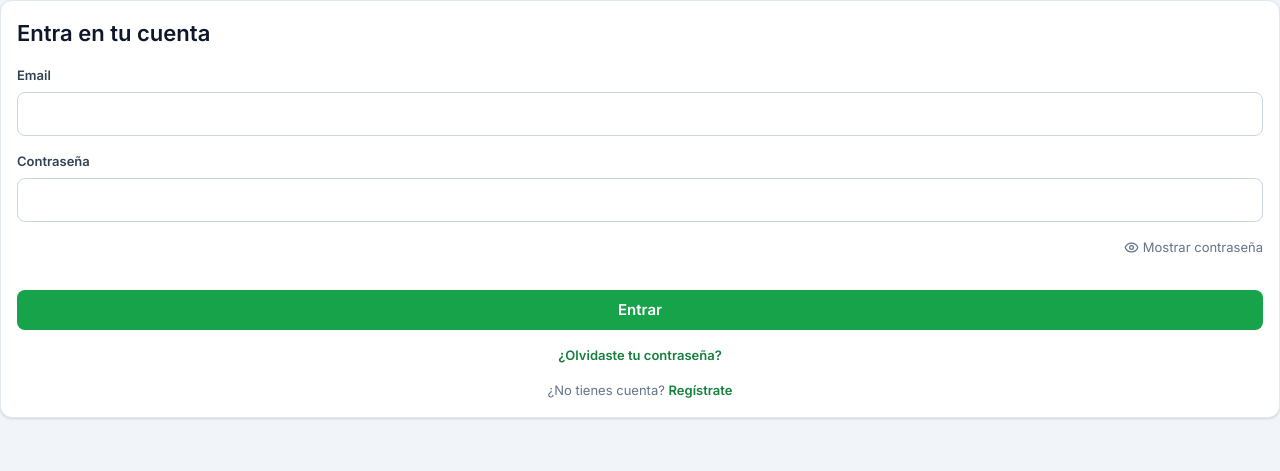
Test: LoginPage — el camino que ya funcionaba (JOS-184: no romperlo) › contraseña incorrecta sigue diciendo «Email o contraseña incorrectos»
Type "ana@mail.com" into the field labelled "Email". click: (640, 114)
box: [17,92,1263,136]
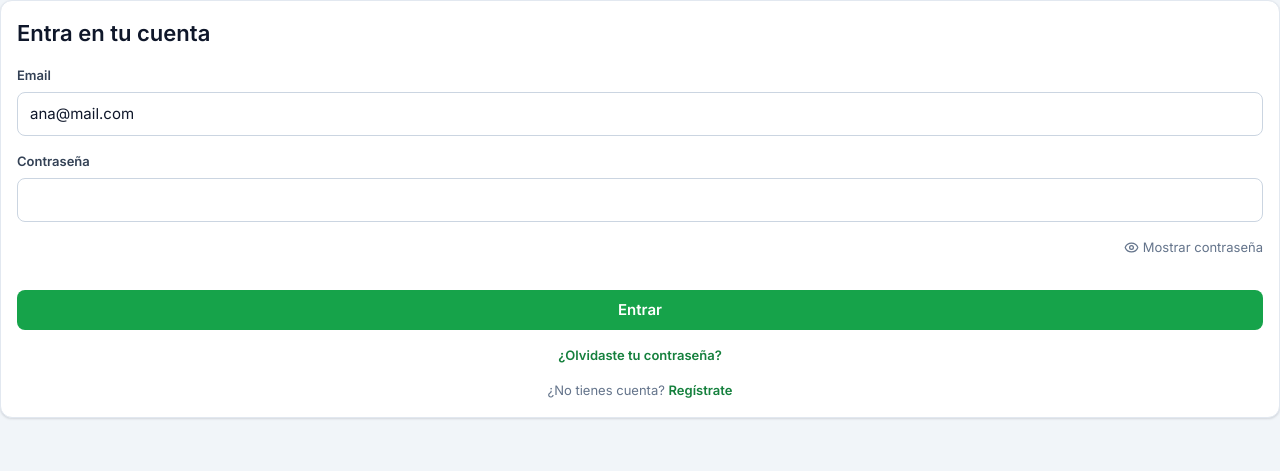
Type "Secreta123" into the password field labelled "Contraseña". click: (640, 200)
box: [17,178,1263,222]
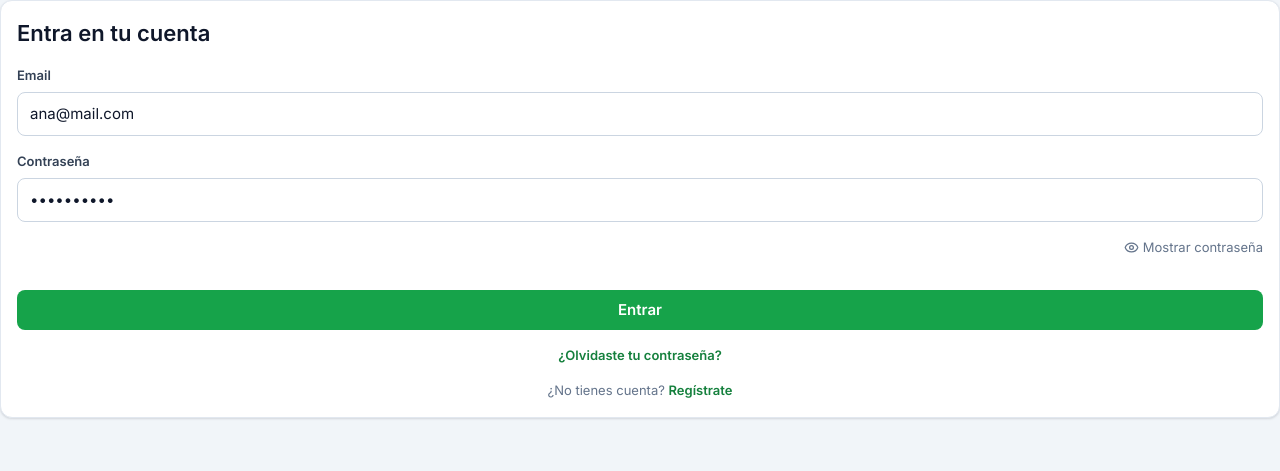
Submit the form
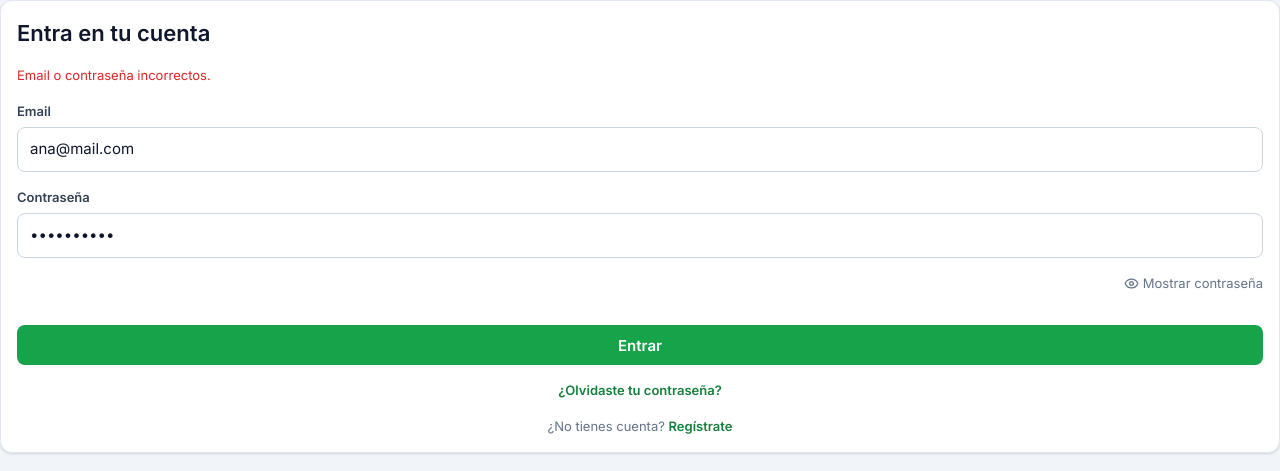
Expected: the message reads "Email o contraseña incorrectos.", [17,67,211,83]
